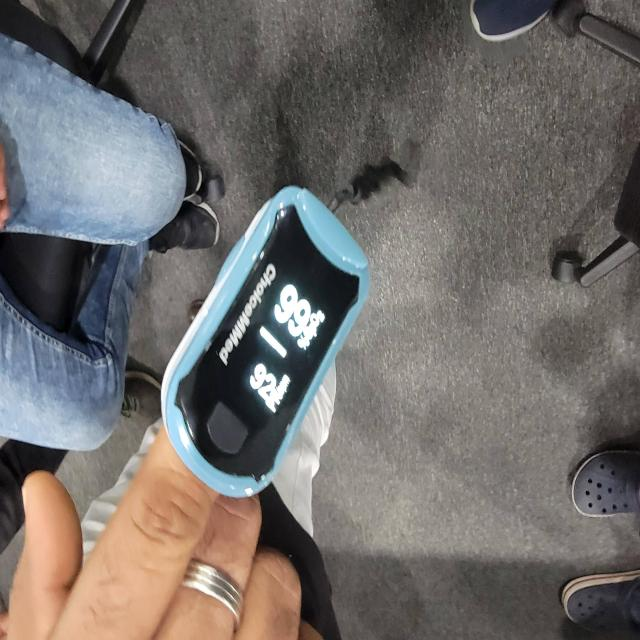spo2: (160, 187, 370, 500)
